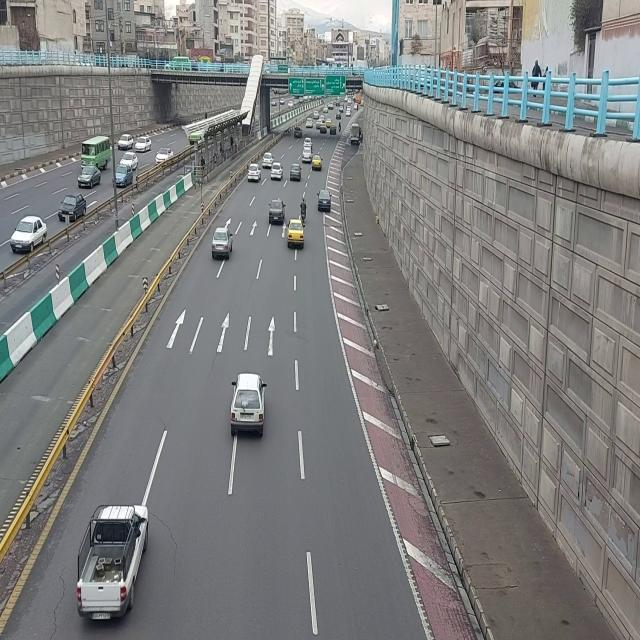Car: (228, 372, 269, 441), (10, 216, 48, 254), (210, 225, 234, 265), (58, 192, 88, 222), (287, 218, 306, 250), (77, 166, 101, 188), (268, 198, 286, 226), (113, 165, 134, 188), (317, 189, 333, 213), (155, 148, 175, 166), (135, 135, 153, 154), (117, 133, 134, 151), (247, 163, 262, 183), (270, 161, 284, 181), (120, 151, 139, 165), (290, 163, 302, 182), (262, 151, 274, 169), (300, 197, 308, 223), (312, 153, 323, 171), (302, 148, 313, 164), (303, 137, 314, 150), (294, 126, 303, 139), (306, 118, 314, 129), (330, 125, 338, 136), (320, 123, 328, 134), (326, 118, 333, 128), (313, 110, 319, 120), (336, 111, 342, 121), (346, 108, 352, 117), (328, 101, 334, 110), (323, 105, 329, 113), (316, 119, 320, 129)
Motorcycle: (338, 120, 342, 132)
Pickup: (75, 498, 151, 634)
